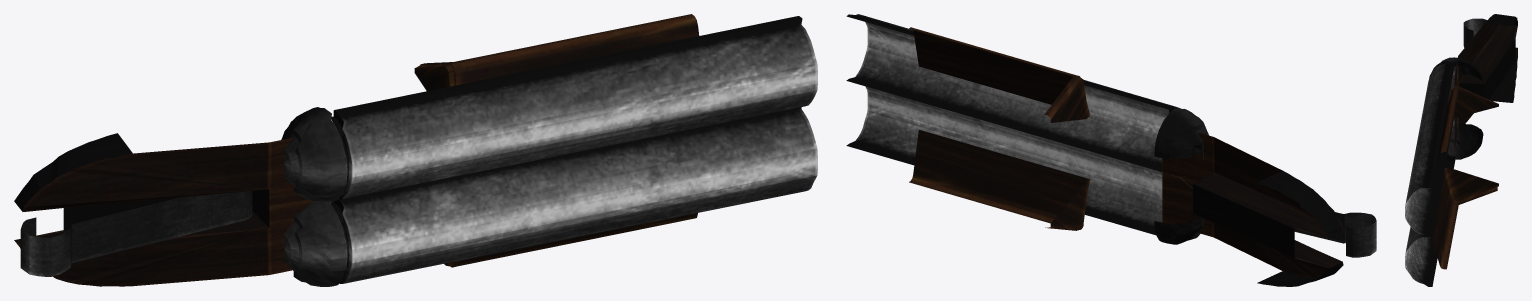
File: v_shot2_5.obj
The picture shows the model from 3 angles, left to right: view 1: azimuth 30°, elevation 25°; view 2: azimuth 150°, elevation 25°; view 3: azimuth 270°, elevation 25°; orthographic projection. The views are drawn at different scales.
Bounding box in the file's own units: 10.68 × 2.81 × 2.46.
1 material, 1 textured.
